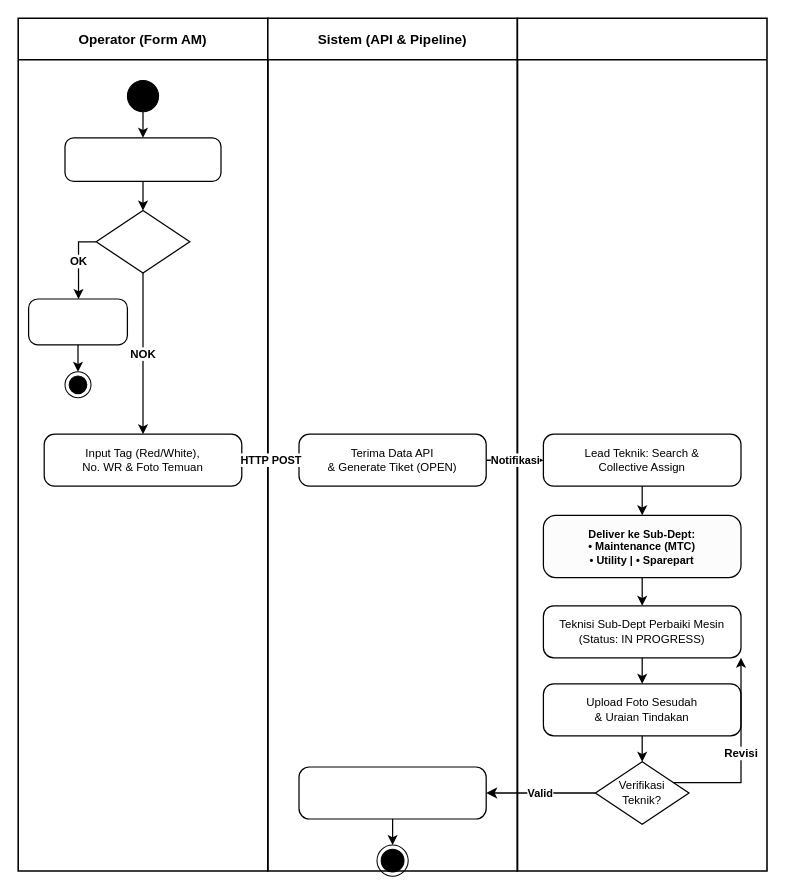
This 786x895 diagram has some shape labels left out. Here are the shapes that lost their labels. From the top down, the box of each, then its label:
(64, 137, 221, 182): Inspeksi Part Mesin
(95, 209, 190, 273): Kondisi Part?
(27, 298, 128, 345): AM Selesai (Auto-Approved)
(516, 17, 767, 871): Tim Teknik (Maintenance)
(298, 766, 486, 819): CLOSE oleh TEKNIK (Status: CLOSED)
